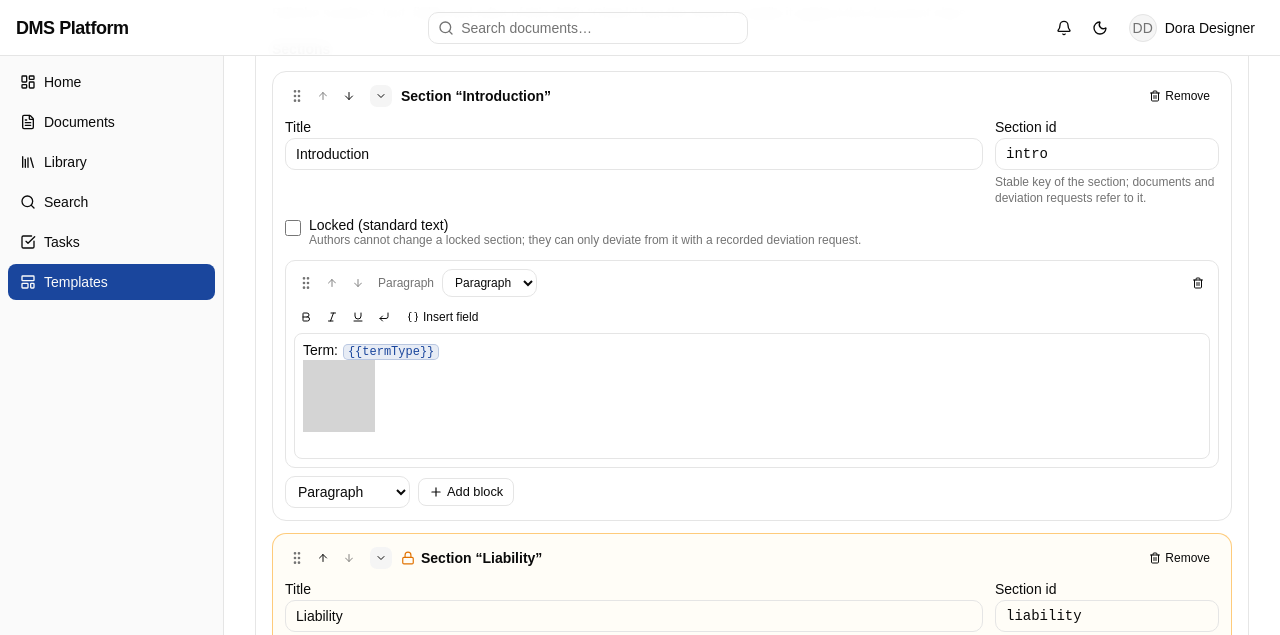
Visual template editor › types text and splits a paragraph with Enter
(page scrolled)
Expected: the heading "Section “Introduction”" is shown, [401,86,551,106]
Click the field named "Paragraph text".
click(752, 396)  # box [294,333,1210,459]
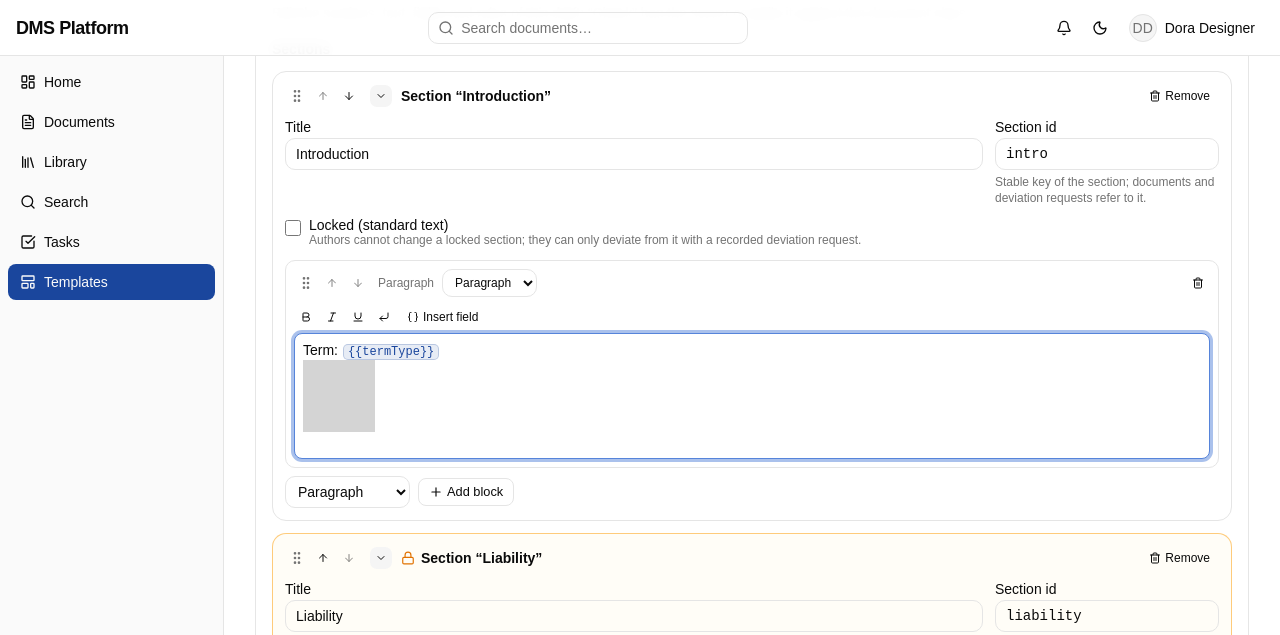
Type keys " applies.{Enter}Second"
(page scrolled)
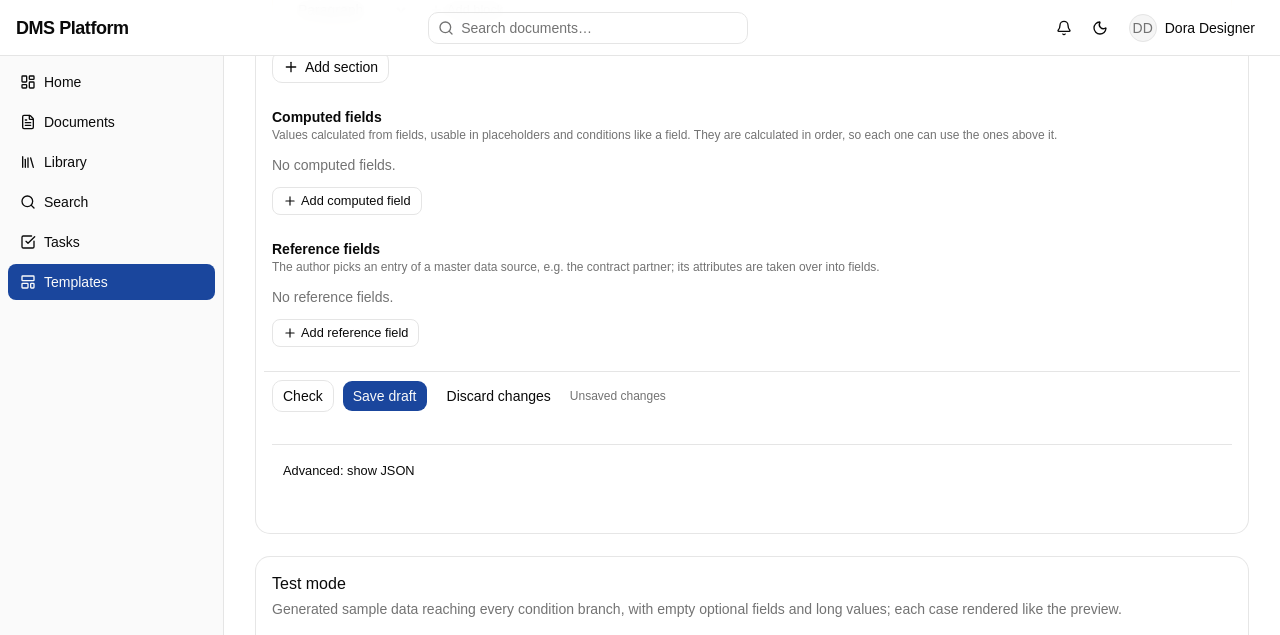
Click the button "Save draft".
click(385, 396)  # box [342,380,428,412]
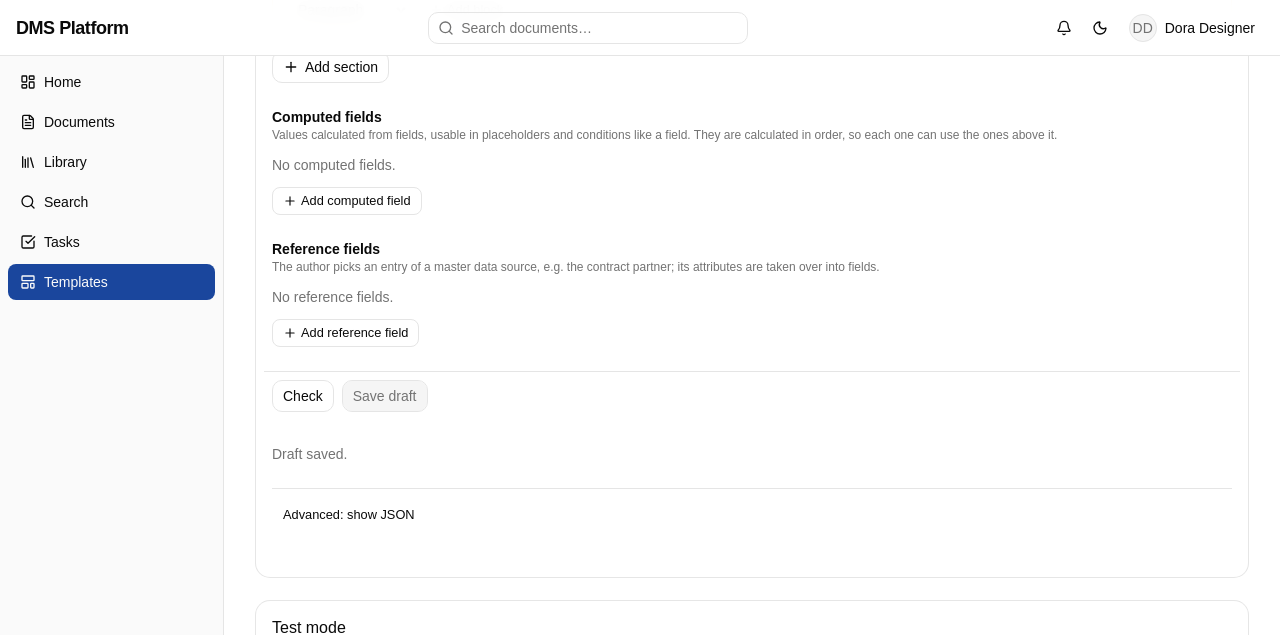
Expected: the text "Draft saved." is shown, [272,446,348,462]
